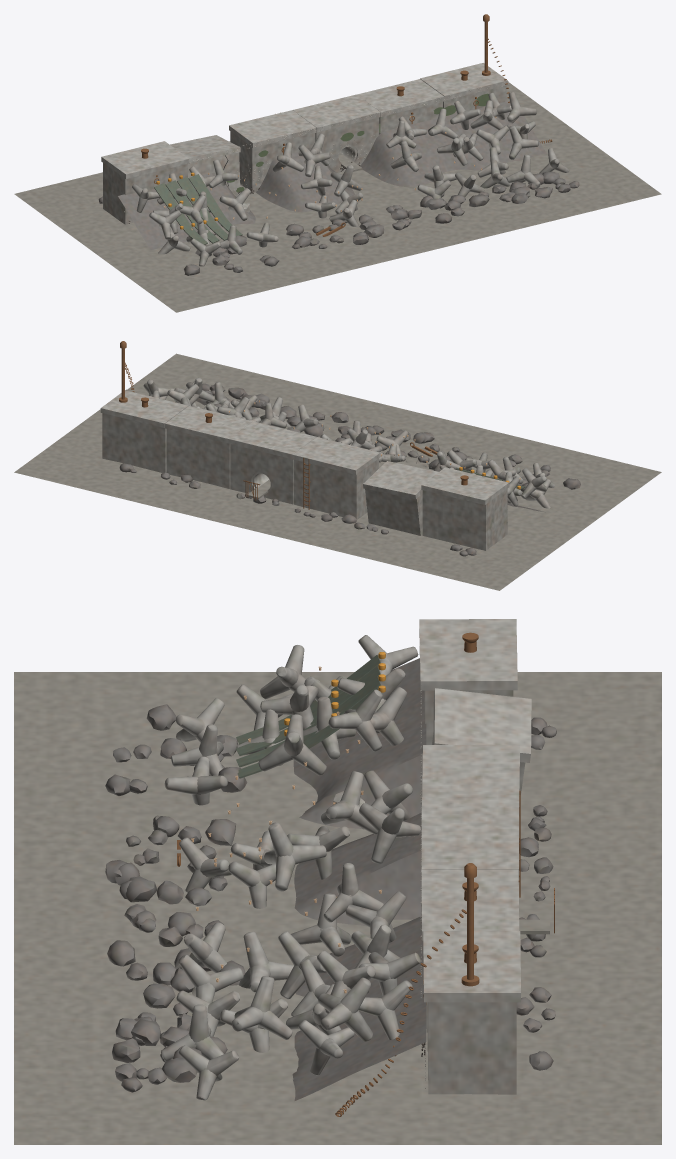
File: SM_Breakwater.fbx
3 views of the same model, one above another, from view 1: azimuth 30°, elevation 25°; view 2: azimuth 150°, elevation 25°; view 3: azimuth 270°, elevation 25° (orthographic). The views are drawn at different scales.
Parts seen in each view (by area): view 1: SM_Breakwater; view 2: SM_Breakwater; view 3: SM_Breakwater.
Part boxes in pixels (box(x1,y1,x2,y2)): SM_Breakwater: box(14, 14, 661, 312); SM_Breakwater: box(14, 341, 661, 590); SM_Breakwater: box(14, 619, 661, 1144).
Bounding box in the file's own units: 38 × 8.95 × 22.
Materials: 1 (1 with a texture image).
